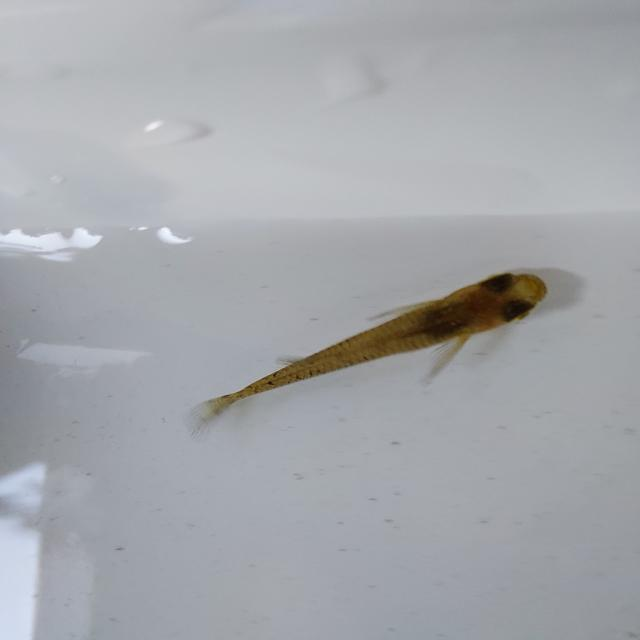Sivrisinek Baligi: (186, 258, 573, 432)
